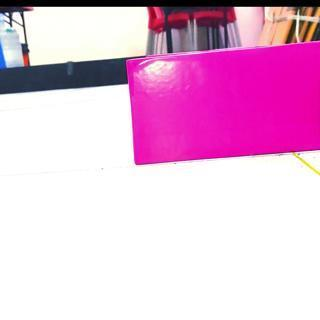xparking: (130, 60, 320, 158)
